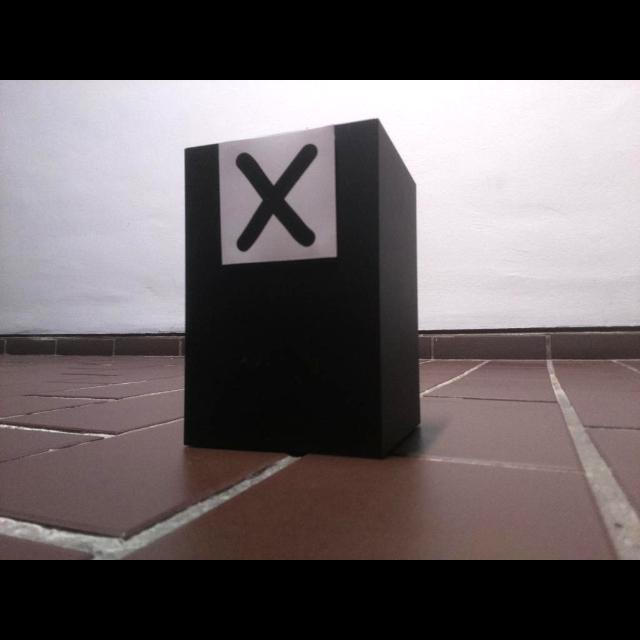X: (235, 143, 319, 253)
